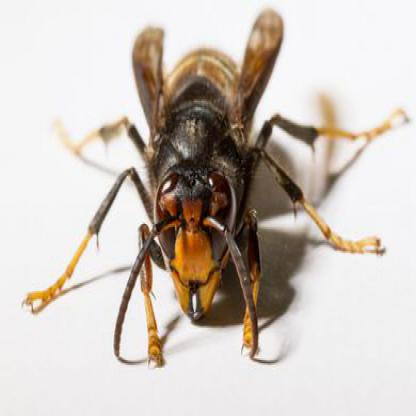Asian Hornet: (45, 0, 316, 381)
